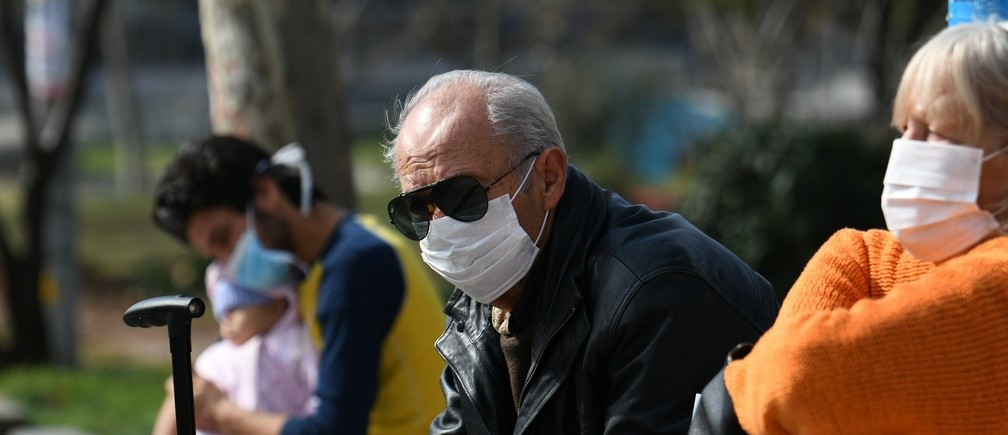face_with_mask: (374, 71, 568, 328), (870, 17, 1008, 288), (182, 160, 320, 318)
